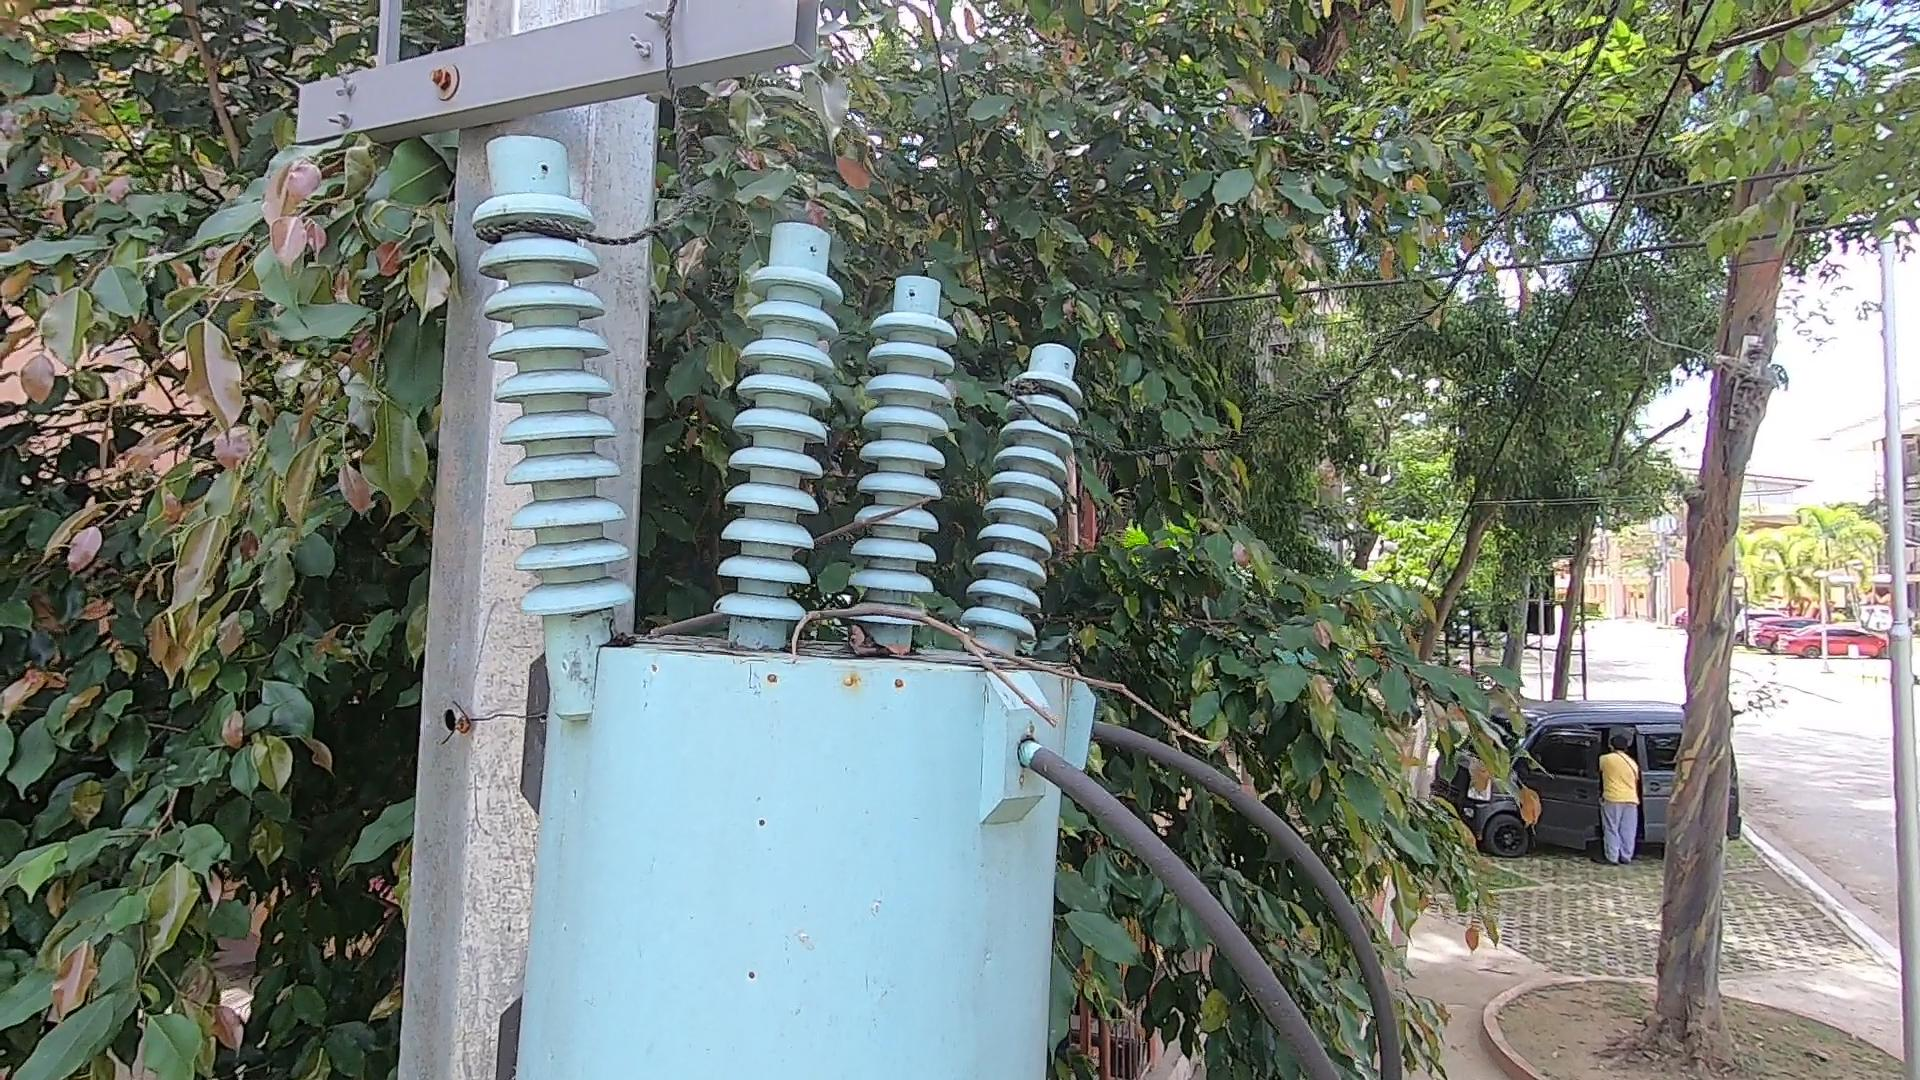leaf: (824, 609, 897, 669), (601, 616, 649, 655)
tree branch: (645, 578, 1226, 789)
